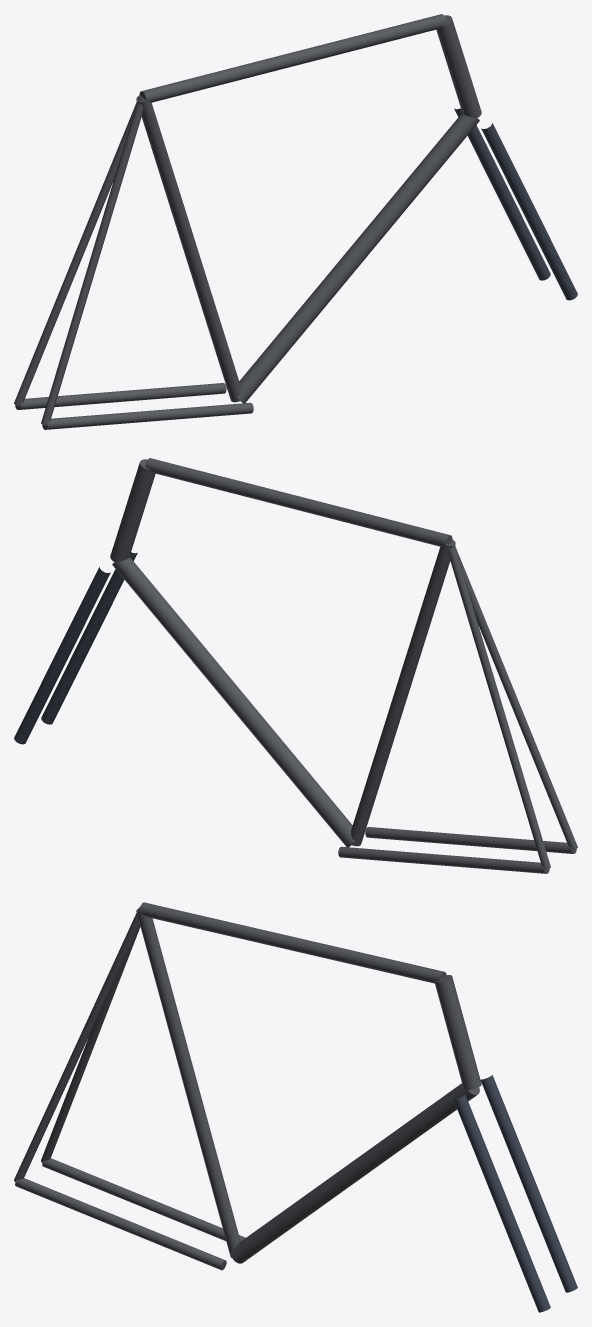
Rendered from wabi-prism-62.glb.
3 views of the same model, one above another, from view 1: azimuth 30°, elevation 25°; view 2: azimuth 150°, elevation 25°; view 3: azimuth 330°, elevation 25° (orthographic).
Visible parts, largest first — view 1: paint_down, paint_seat, paint_top, paint_seatstay_0.045, paint_seatstay_-0.045, fork_0.045, paint_chainstay_0.045, fork_-0.045, paint_chainstay_-0.045, paint_head; view 2: paint_down, paint_seat, paint_top, paint_seatstay_-0.045, paint_seatstay_0.045, fork_-0.045, paint_chainstay_-0.045, fork_0.045, paint_chainstay_0.045, paint_head; view 3: paint_down, paint_seat, paint_top, fork_0.045, fork_-0.045, paint_seatstay_0.045, paint_chainstay_0.045, paint_chainstay_-0.045, paint_head, paint_seatstay_-0.045.
Boxes of the visible parts, x1,y1,x2,y2 form: paint_down: [237, 113, 479, 403]; paint_seat: [136, 95, 240, 402]; paint_top: [139, 14, 446, 102]; paint_seatstay_0.045: [41, 97, 144, 425]; paint_seatstay_-0.045: [14, 96, 142, 406]; fork_0.045: [481, 123, 577, 300]; paint_chainstay_0.045: [42, 402, 253, 429]; fork_-0.045: [454, 108, 550, 280]; paint_chainstay_-0.045: [15, 383, 226, 409]; paint_head: [436, 15, 481, 117]; paint_down: [112, 557, 354, 847]; paint_seat: [351, 539, 455, 846]; paint_top: [145, 458, 452, 546]; paint_seatstay_-0.045: [447, 541, 550, 869]; paint_seatstay_0.045: [449, 540, 577, 850]; fork_-0.045: [14, 567, 110, 744]; paint_chainstay_-0.045: [338, 846, 549, 873]; fork_0.045: [41, 552, 137, 724]; paint_chainstay_0.045: [365, 827, 576, 853]; paint_head: [110, 459, 155, 561]; paint_down: [230, 1083, 479, 1263]; paint_seat: [136, 909, 240, 1257]; paint_top: [139, 902, 446, 983]; fork_0.045: [453, 1094, 550, 1312]; fork_-0.045: [480, 1075, 577, 1292]; paint_seatstay_0.045: [14, 907, 139, 1181]; paint_chainstay_0.045: [15, 1178, 226, 1270]; paint_chainstay_-0.045: [42, 1158, 245, 1241]; paint_head: [434, 975, 481, 1090]; paint_seatstay_-0.045: [41, 925, 140, 1162].
Size of the model in its own units: 1.03 by 0.6229 by 0.112.
